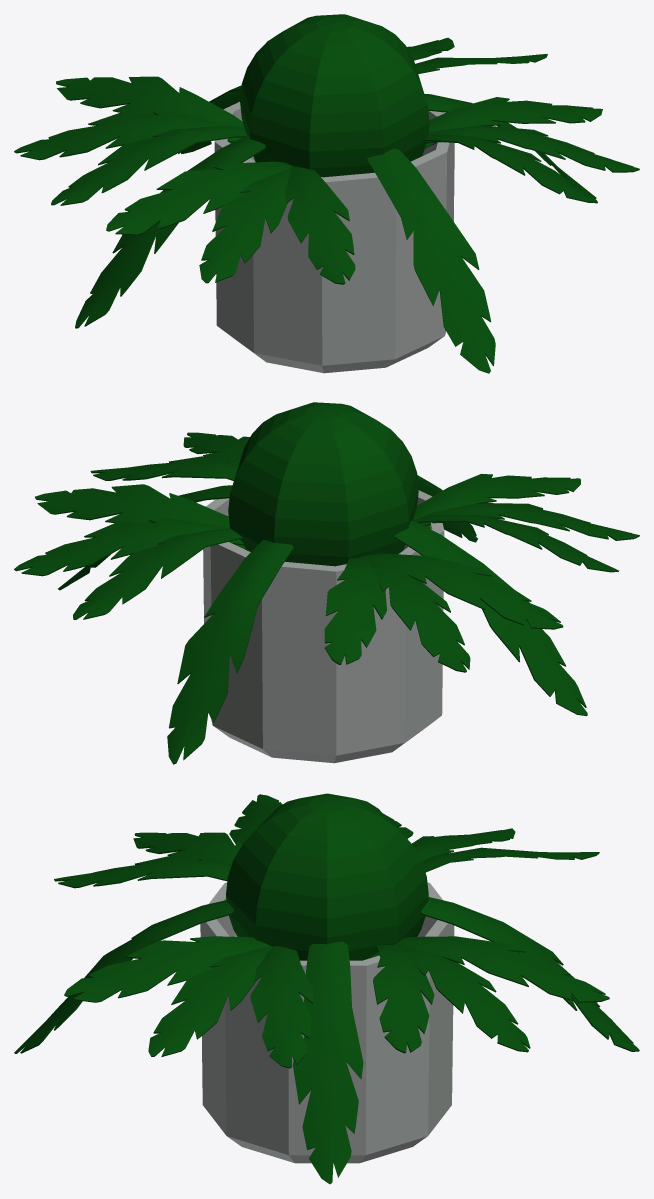
The model's file is Arbusto.fbx.
The picture shows the model from 3 angles, top to bottom: view 1: azimuth 30°, elevation 25°; view 2: azimuth 150°, elevation 25°; view 3: azimuth 270°, elevation 25°; orthographic projection. The views are drawn at different scales.
Visible parts, largest first — view 1: Sphere.008, Sphere.009, Plane.017, Plane.016, Plane.022, Plane.019, Plane.020, Plane.018, Plane.021, Plane.023; view 2: Sphere.008, Sphere.009, Plane.018, Plane.016, Plane.023, Plane.017, Plane.020, Plane.019, Plane.021, Plane.022; view 3: Sphere.008, Sphere.009, Plane.019, Plane.018, Plane.021, Plane.017, Plane.023, Plane.022, Plane.016.
Boxes of the visible parts, bbox=[...] form: Sphere.008: bbox=[214, 101, 454, 373]; Sphere.009: bbox=[240, 14, 429, 177]; Plane.017: bbox=[106, 161, 355, 284]; Plane.016: bbox=[14, 76, 246, 205]; Plane.022: bbox=[367, 148, 495, 373]; Plane.019: bbox=[423, 97, 639, 203]; Plane.020: bbox=[75, 135, 265, 328]; Plane.018: bbox=[407, 37, 547, 73]; Plane.021: bbox=[424, 94, 596, 199]; Plane.023: bbox=[178, 85, 241, 153]; Sphere.008: bbox=[203, 490, 444, 763]; Sphere.009: bbox=[228, 402, 418, 566]; Plane.018: bbox=[14, 484, 246, 619]; Plane.016: bbox=[324, 553, 563, 672]; Plane.023: bbox=[167, 540, 293, 764]; Plane.017: bbox=[413, 473, 639, 572]; Plane.020: bbox=[394, 521, 587, 715]; Plane.019: bbox=[90, 432, 249, 480]; Plane.021: bbox=[58, 485, 232, 590]; Plane.022: bbox=[417, 475, 477, 542]; Sphere.008: bbox=[200, 882, 454, 1163]; Sphere.009: bbox=[226, 793, 428, 960]; Plane.019: bbox=[64, 936, 313, 1068]; Plane.018: bbox=[371, 936, 609, 1053]; Plane.021: bbox=[293, 942, 363, 1184]; Plane.017: bbox=[54, 794, 282, 888]; Plane.023: bbox=[420, 897, 639, 1051]; Plane.022: bbox=[14, 900, 233, 1053]; Plane.016: bbox=[383, 813, 599, 872].
Bounding box in the file's own units: 222 × 133 × 222.
